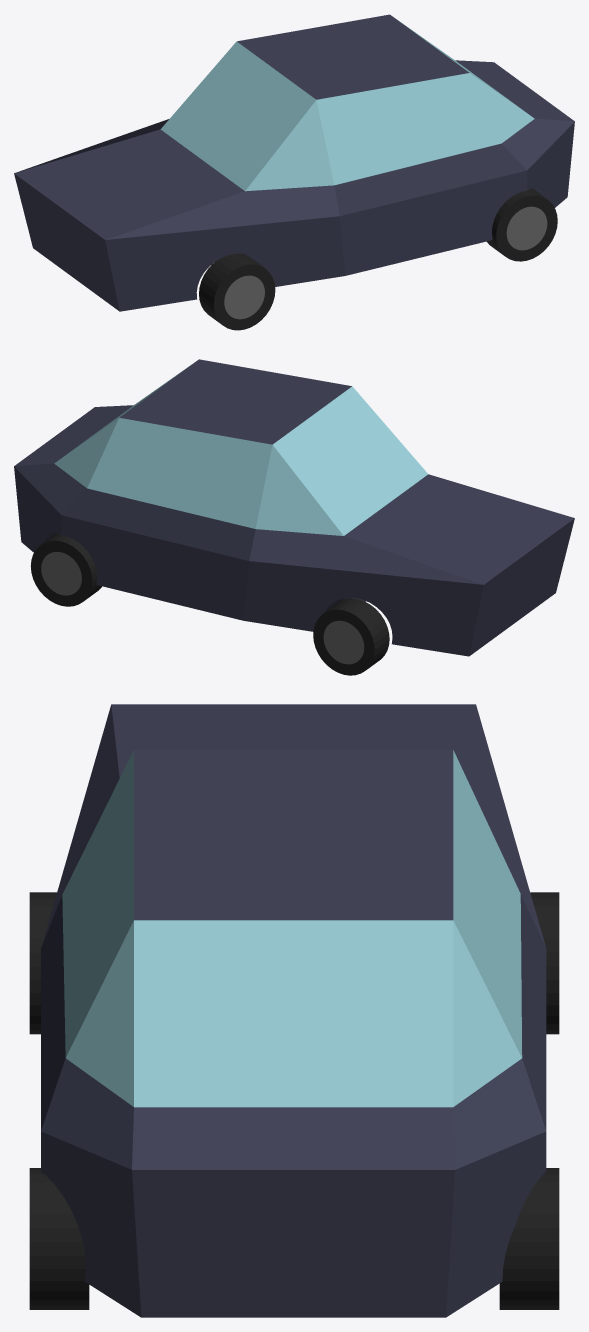
File: car.glb
3 views of the same model, one above another, from view 1: azimuth 30°, elevation 25°; view 2: azimuth 150°, elevation 25°; view 3: azimuth 270°, elevation 25° (orthographic). The views are drawn at different scales.
Parts seen in each view (by area): view 1: car; view 2: car; view 3: car.
Boxes of the visible parts, box(x1,y1,x2,y2) form: car: box(14, 14, 574, 330); car: box(14, 359, 574, 675); car: box(29, 704, 559, 1317).
Size of the model in its own units: 386 by 145 by 186.
